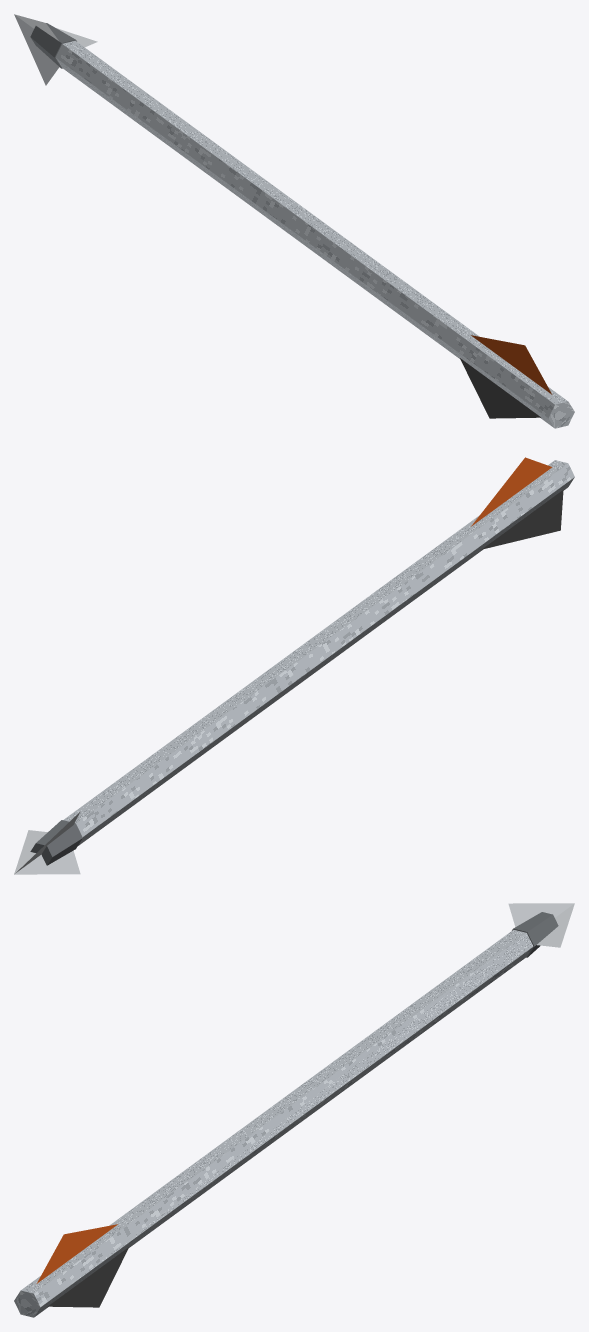
Rendered from bolt_steel.glb.
3 renders of one model, top to bottom at view 1: azimuth 30°, elevation 25°; view 2: azimuth 150°, elevation 25°; view 3: azimuth 330°, elevation 25°, orthographic.
Parts seen in each view (by area): view 1: block_shaft, block_vane (×2), block_ferrule, block_blade; view 2: block_shaft, block_vane (×2), block_ferrule, block_blade; view 3: block_shaft, block_vane (×2), block_blade (×2), block_ferrule.
Boxes of the visible parts, x1,y1,x2,y2 form: block_shaft: (55, 40, 574, 428); block_vane (×2): (460, 335, 552, 418); block_ferrule: (30, 23, 76, 68); block_blade: (14, 14, 59, 85); block_shaft: (63, 460, 574, 845); block_vane (×2): (471, 457, 563, 549); block_ferrule: (30, 820, 82, 865); block_blade: (14, 850, 80, 874); block_shaft: (14, 929, 533, 1317); block_vane (×2): (36, 1224, 128, 1307); block_blade (×2): (508, 903, 574, 947); block_ferrule: (512, 912, 558, 957).
Size of the model in its own units: 0.0225 by 0.0225 by 0.3.
Materials: 2 (2 with a texture image).
